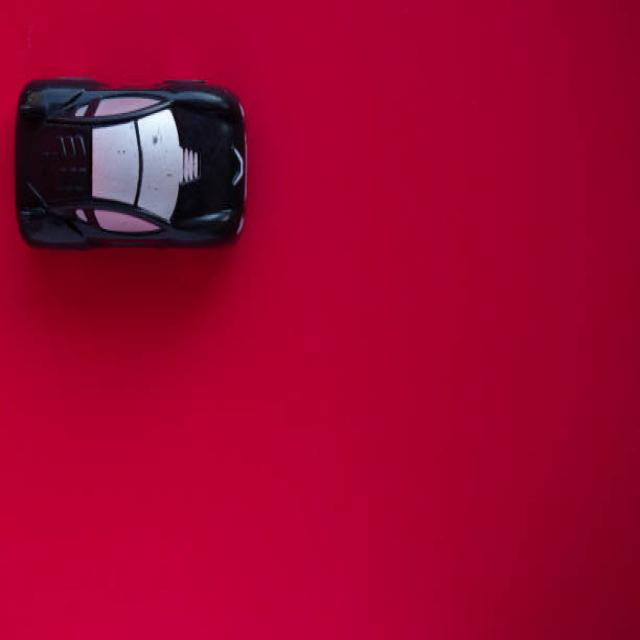Car: (13, 76, 246, 250)
